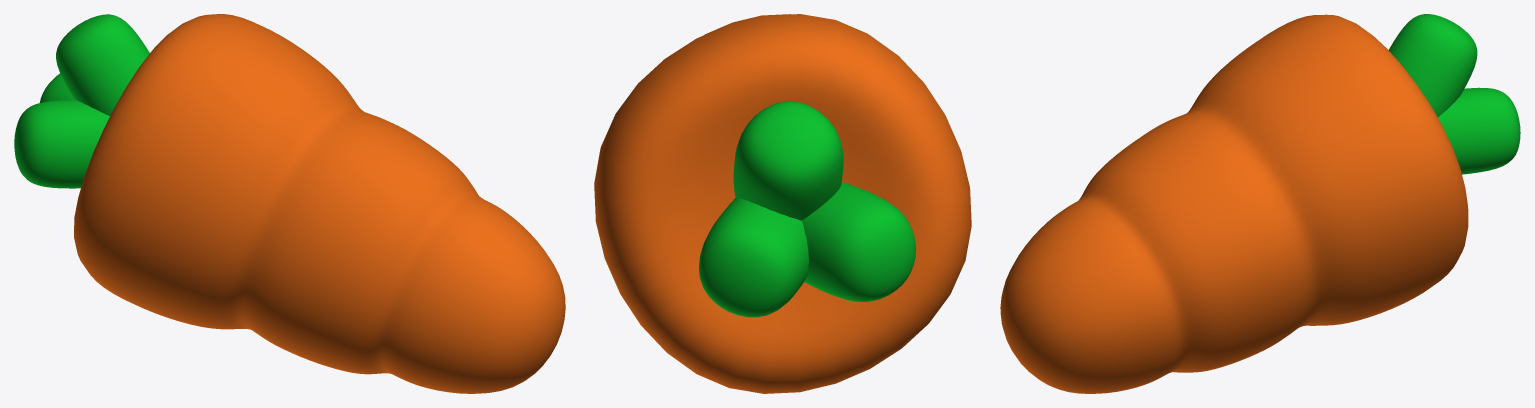
The model's file is Carrot.fbx.
The picture shows the model from 3 angles, left to right: view 1: azimuth 30°, elevation 25°; view 2: azimuth 150°, elevation 25°; view 3: azimuth 270°, elevation 25°; orthographic projection. The views are drawn at different scales.
Visible parts, largest first — view 1: Cube.004; view 2: Cube.004; view 3: Cube.004.
Boxes of the visible parts, bbox=[...] form: Cube.004: bbox=[14, 14, 565, 393]; Cube.004: bbox=[594, 14, 971, 393]; Cube.004: bbox=[1000, 14, 1520, 393].
Size of the model in its own units: 35.84 by 28.64 by 46.04.
